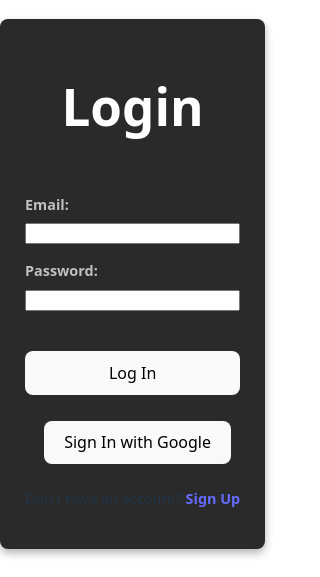
Scenario: LoginPage Component › displays an error message on failed email login
This screenshot has width=320, height=577.
Type "wrong@example.com" into the field labelled "Email:" at (133, 234), box [25, 223, 240, 244]
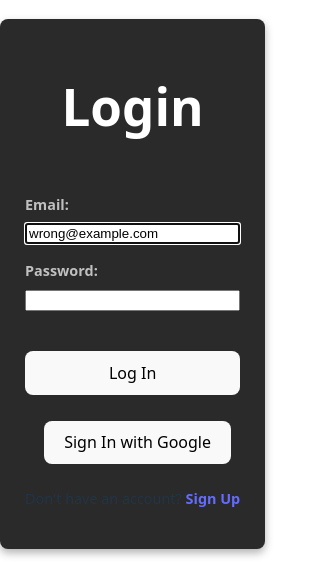
Type "wrongpass" into the password field labelled "Password:" at (133, 300), box [25, 290, 240, 311]
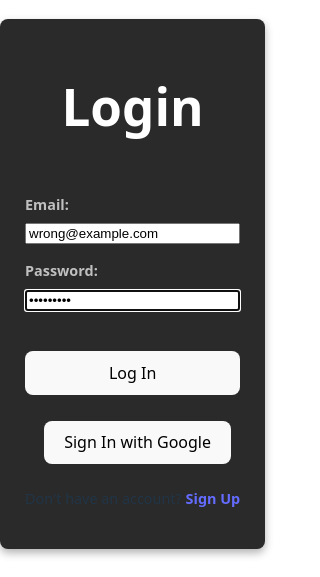
Click the button "Log In" at (133, 373), box [25, 351, 240, 395]
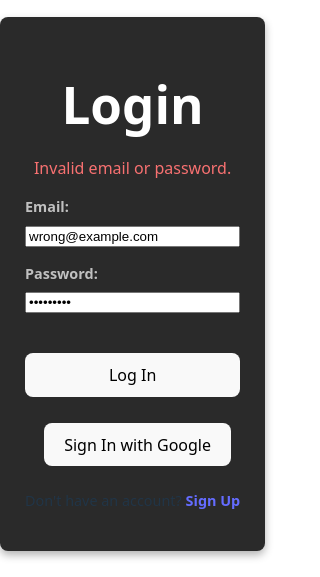
Now the text "Invalid email or password." is shown, box [25, 156, 240, 180]
